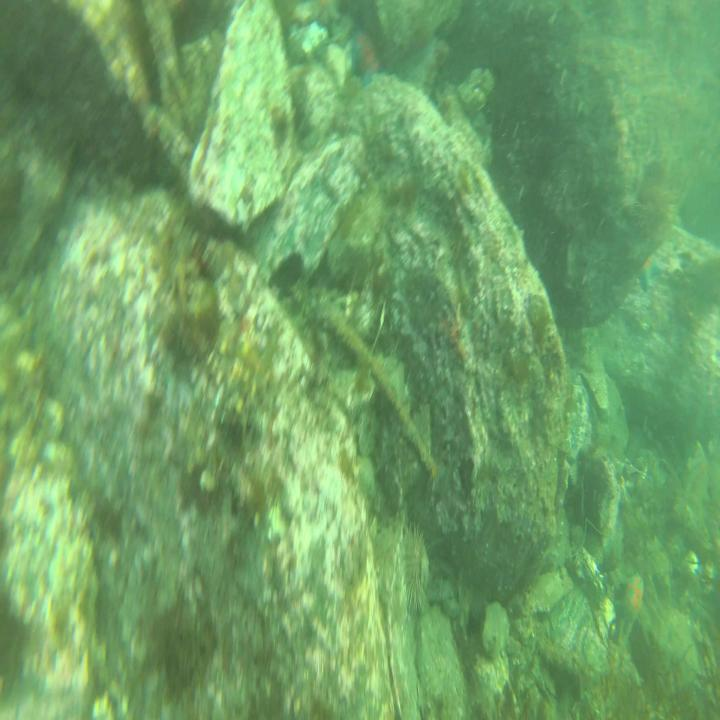echinus: (397, 519, 428, 613)
starfish: (346, 20, 386, 86)
